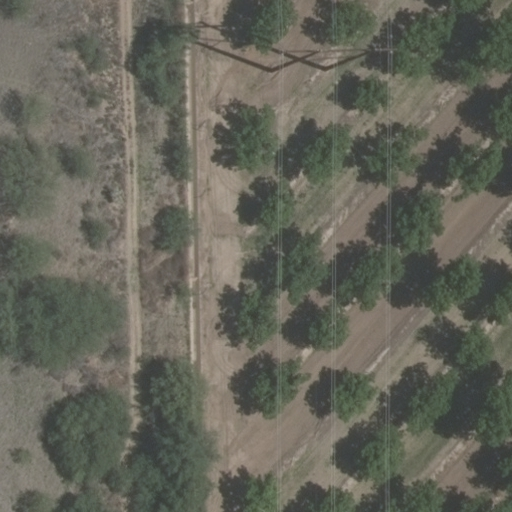TT: (264, 37, 397, 82)
